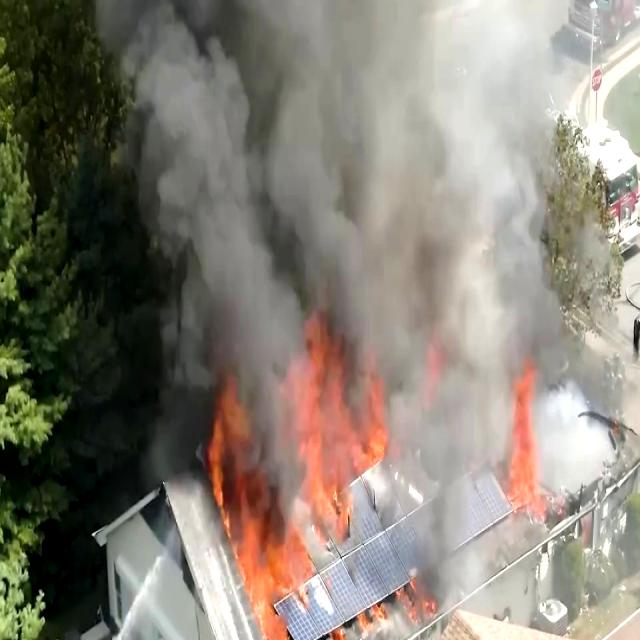fire: (221, 341, 387, 617)
smoke: (298, 0, 499, 326), (132, 0, 404, 223), (504, 368, 544, 510)
